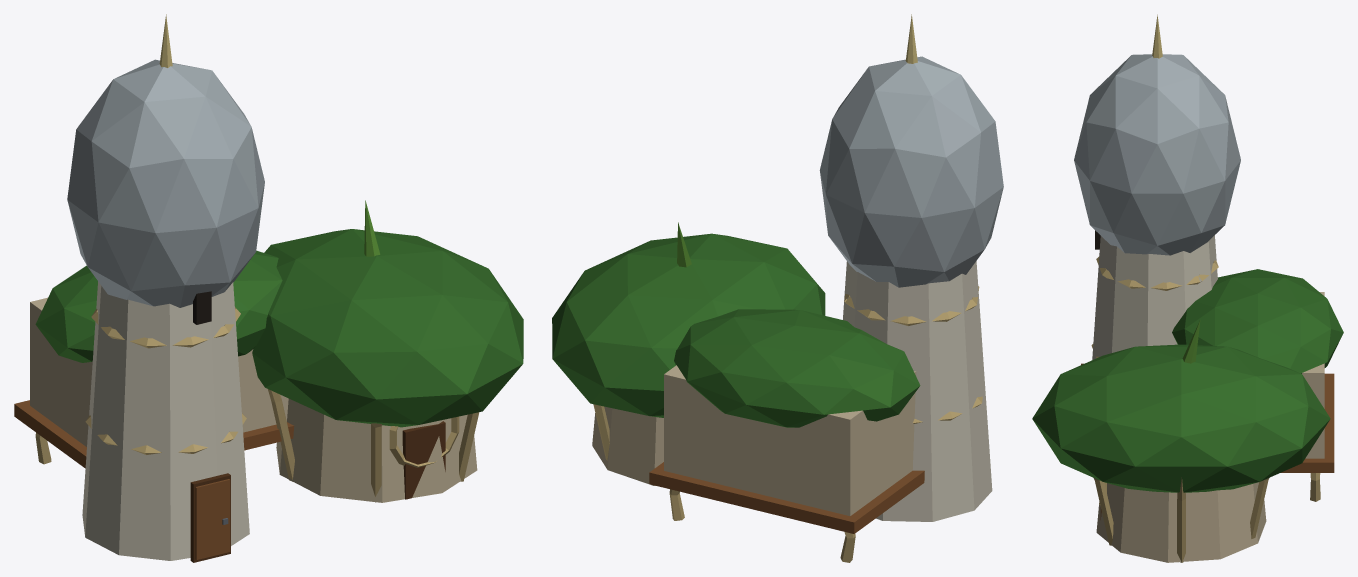
The model's file is elf_compound_broken.glb.
3 views of the same model, side by side, from view 1: azimuth 30°, elevation 25°; view 2: azimuth 150°, elevation 25°; view 3: azimuth 270°, elevation 25° (orthographic). The views are drawn at different scales.
Parts seen in each view (by area): view 1: elf_compound_piece6, elf_compound_piece5, elf_compound_piece3, elf_compound_piece2, elf_compound_piece4, elf_compound_piece7, elf_compound_piece9, elf_compound_piece0, elf_compound_piece1; view 2: elf_compound_piece9, elf_compound_piece0, elf_compound_piece1, elf_compound_piece7, elf_compound_piece5, elf_compound_piece3, elf_compound_piece2, elf_compound_piece8, elf_compound_piece6, elf_compound_piece4; view 3: elf_compound_piece5, elf_compound_piece7, elf_compound_piece1, elf_compound_piece6, elf_compound_piece3, elf_compound_piece4, elf_compound_piece8, elf_compound_piece0, elf_compound_piece9, elf_compound_piece2.
Part boxes in pixels (x1=…): elf_compound_piece6: x1=85, y1=228, x2=246, y2=562; elf_compound_piece5: x1=333, y1=200, x2=523, y2=493; elf_compound_piece3: x1=231, y1=235, x2=436, y2=545; elf_compound_piece2: x1=81, y1=145, x2=240, y2=528; elf_compound_piece4: x1=162, y1=133, x2=367, y2=422; elf_compound_piece7: x1=81, y1=14, x2=255, y2=203; elf_compound_piece9: x1=42, y1=93, x2=103, y2=534; elf_compound_piece0: x1=14, y1=265, x2=89, y2=520; elf_compound_piece1: x1=233, y1=229, x2=364, y2=310; elf_compound_piece9: x1=710, y1=112, x2=987, y2=517; elf_compound_piece0: x1=669, y1=354, x2=946, y2=562; elf_compound_piece1: x1=590, y1=222, x2=889, y2=520; elf_compound_piece7: x1=819, y1=14, x2=992, y2=260; elf_compound_piece5: x1=552, y1=222, x2=825, y2=337; elf_compound_piece3: x1=552, y1=279, x2=825, y2=485; elf_compound_piece2: x1=843, y1=113, x2=1003, y2=504; elf_compound_piece8: x1=552, y1=292, x2=631, y2=402; elf_compound_piece6: x1=972, y1=286, x2=992, y2=511; elf_compound_piece4: x1=716, y1=268, x2=825, y2=312; elf_compound_piece5: x1=1032, y1=320, x2=1269, y2=562; elf_compound_piece7: x1=1092, y1=14, x2=1234, y2=223; elf_compound_piece1: x1=1140, y1=196, x2=1334, y2=501; elf_compound_piece6: x1=1081, y1=230, x2=1184, y2=364; elf_compound_piece3: x1=1153, y1=325, x2=1283, y2=562; elf_compound_piece4: x1=1074, y1=106, x2=1186, y2=359; elf_compound_piece8: x1=1248, y1=379, x2=1330, y2=471; elf_compound_piece0: x1=1289, y1=275, x2=1343, y2=453; elf_compound_piece9: x1=1197, y1=68, x2=1311, y2=334; elf_compound_piece2: x1=1086, y1=86, x2=1217, y2=325.
Size of the model in its own units: 1.88 by 2.15 by 1.44.
